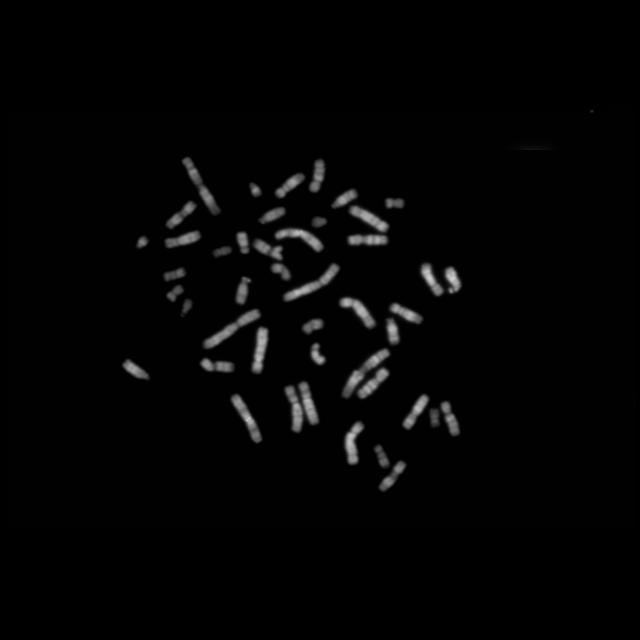chromosome: (342, 348, 390, 398), (284, 260, 340, 302), (203, 308, 259, 349), (182, 158, 220, 216), (229, 394, 261, 444), (275, 228, 323, 252), (347, 206, 389, 232), (340, 298, 374, 330), (358, 367, 389, 399), (344, 418, 364, 466), (403, 393, 429, 429), (274, 172, 306, 200), (164, 201, 196, 229), (379, 460, 406, 492), (299, 382, 319, 424), (284, 387, 302, 433), (388, 303, 424, 325), (252, 326, 268, 374), (421, 262, 443, 296), (123, 358, 151, 384), (442, 400, 462, 436), (252, 239, 284, 261), (201, 356, 235, 376), (164, 230, 201, 248), (347, 232, 389, 246), (330, 188, 356, 210), (308, 160, 324, 194), (234, 275, 252, 305), (258, 206, 286, 224), (444, 267, 462, 293), (372, 442, 390, 468), (309, 342, 326, 366), (270, 263, 292, 281), (212, 243, 233, 259), (166, 284, 182, 304), (304, 318, 324, 334), (386, 318, 398, 344), (384, 196, 404, 210), (162, 268, 185, 280), (236, 232, 248, 254), (248, 182, 262, 200), (312, 214, 326, 230), (178, 302, 192, 318), (430, 408, 440, 428), (136, 236, 148, 248)
